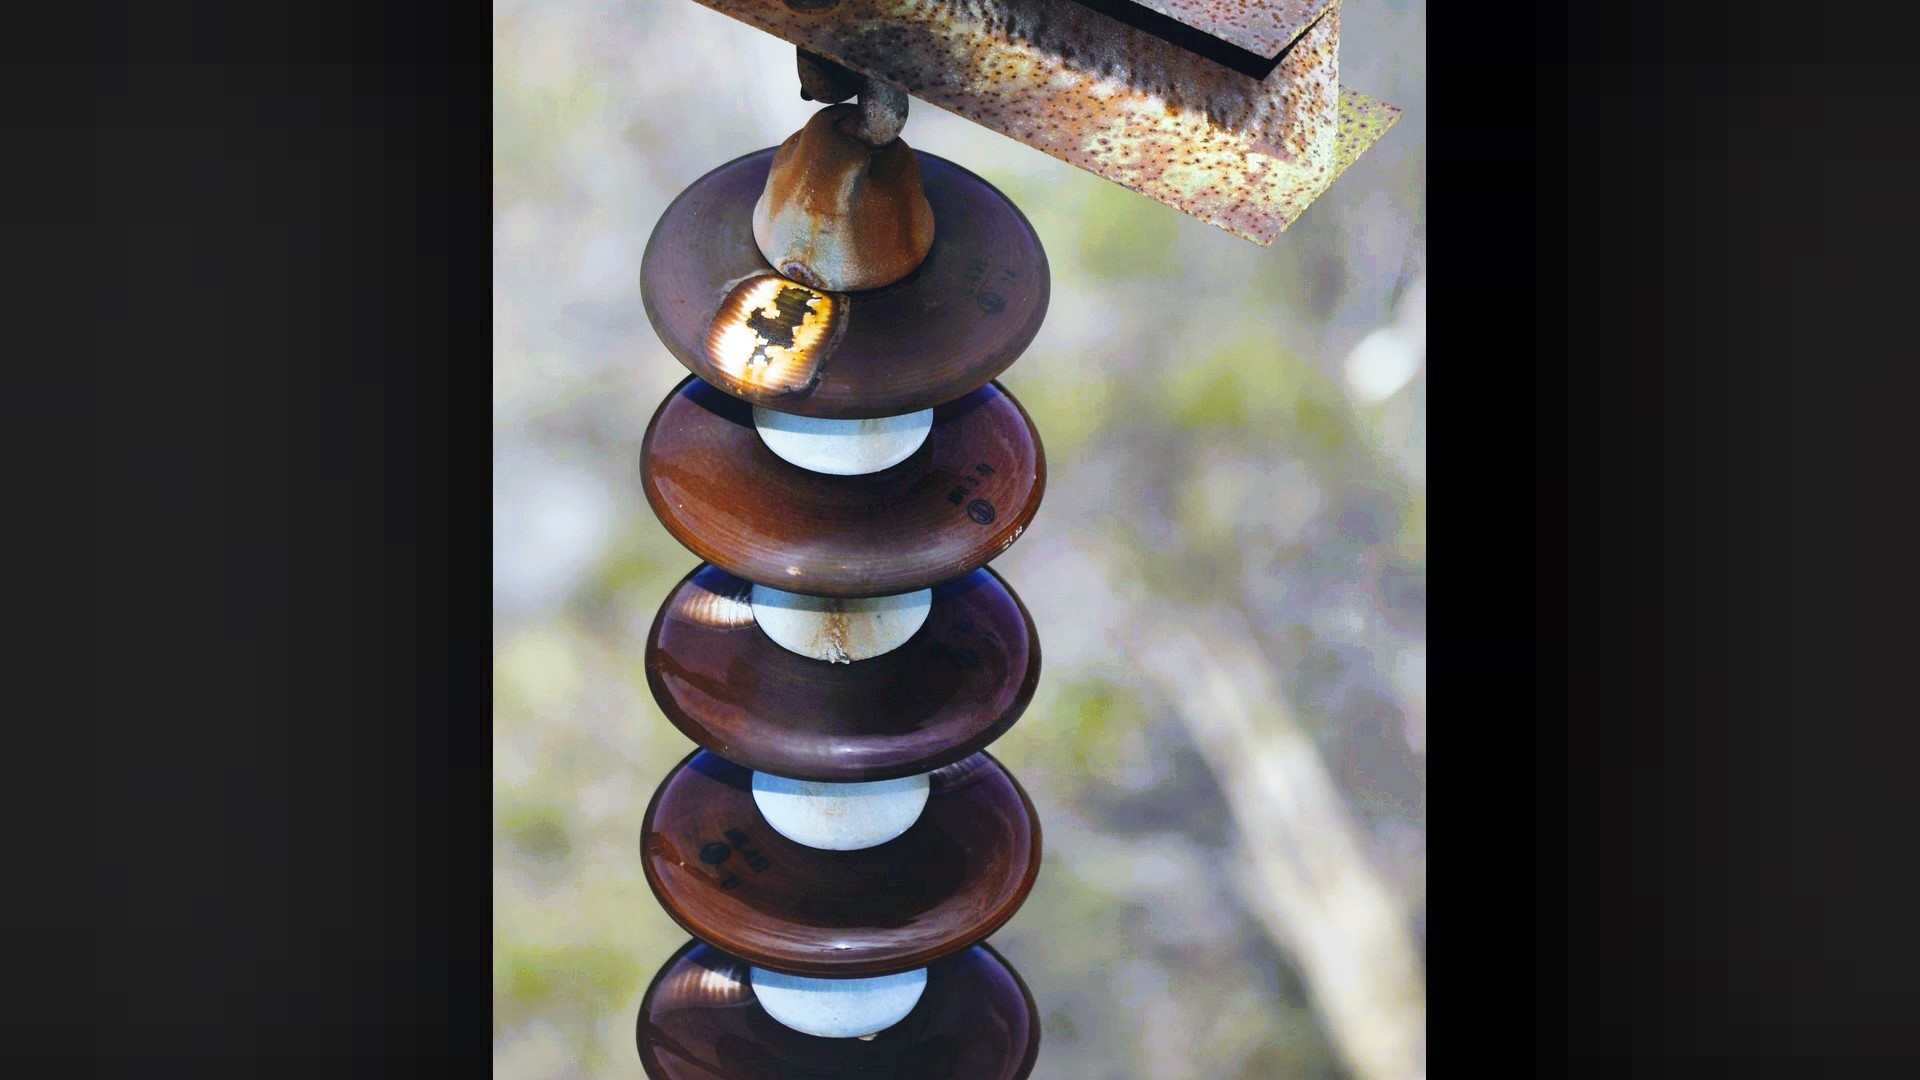Insulator flashover: (620, 125, 1069, 429)
